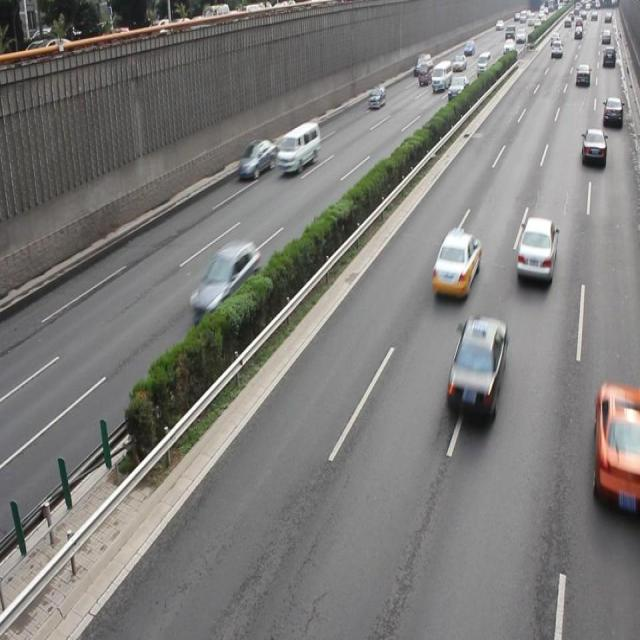car: (444, 313, 506, 427), (592, 381, 640, 518), (188, 241, 260, 321), (430, 228, 480, 299), (515, 216, 558, 286), (238, 137, 275, 177), (581, 127, 605, 167), (601, 96, 622, 128)
truck: (276, 122, 320, 174)
